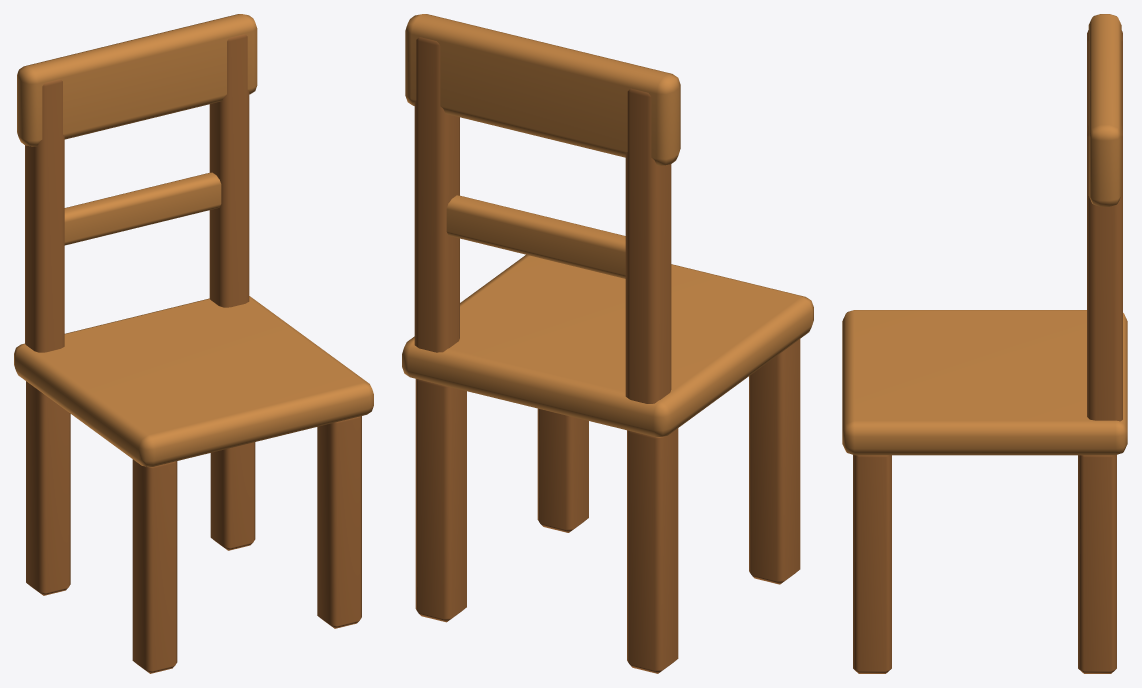
The model's file is Chair.fbx.
3 renders of one model, left to right at view 1: azimuth 30°, elevation 25°; view 2: azimuth 150°, elevation 25°; view 3: azimuth 270°, elevation 25°, orthographic. The views are drawn at different scales.
Parts seen in each view (by area): view 1: Chair; view 2: Chair; view 3: Chair.
Part boxes in pixels (x1,y1,x2,y2): Chair: (14, 14, 373, 673); Chair: (402, 14, 813, 673); Chair: (842, 14, 1127, 673).
Bounding box in the file's own units: 1.9 × 4.05 × 1.9.
Materials: 1 (1 with a texture image).
